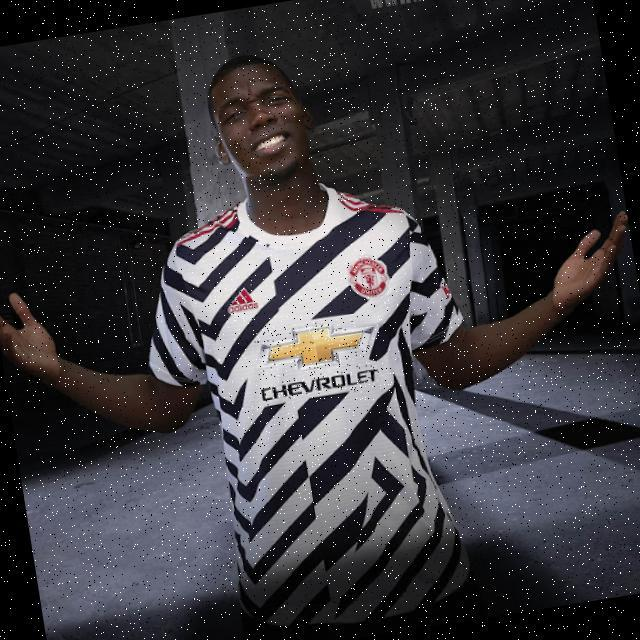Chevrolet: (253, 314, 383, 408), (219, 279, 264, 317)
